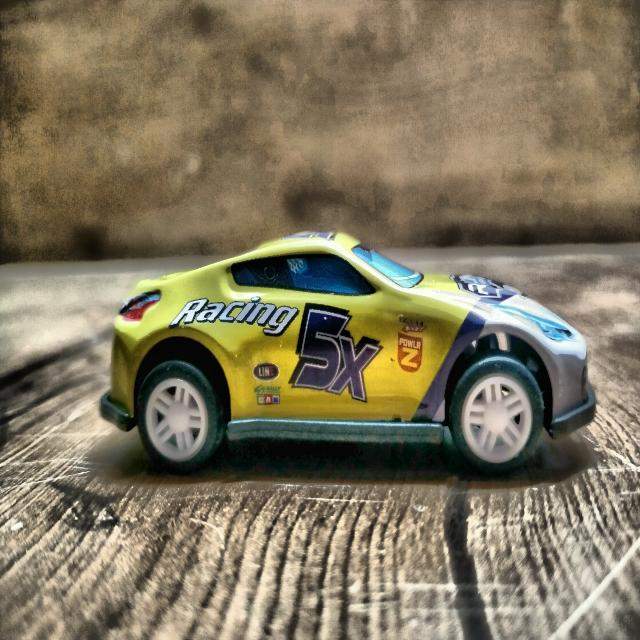Car: (100, 233, 594, 474)
